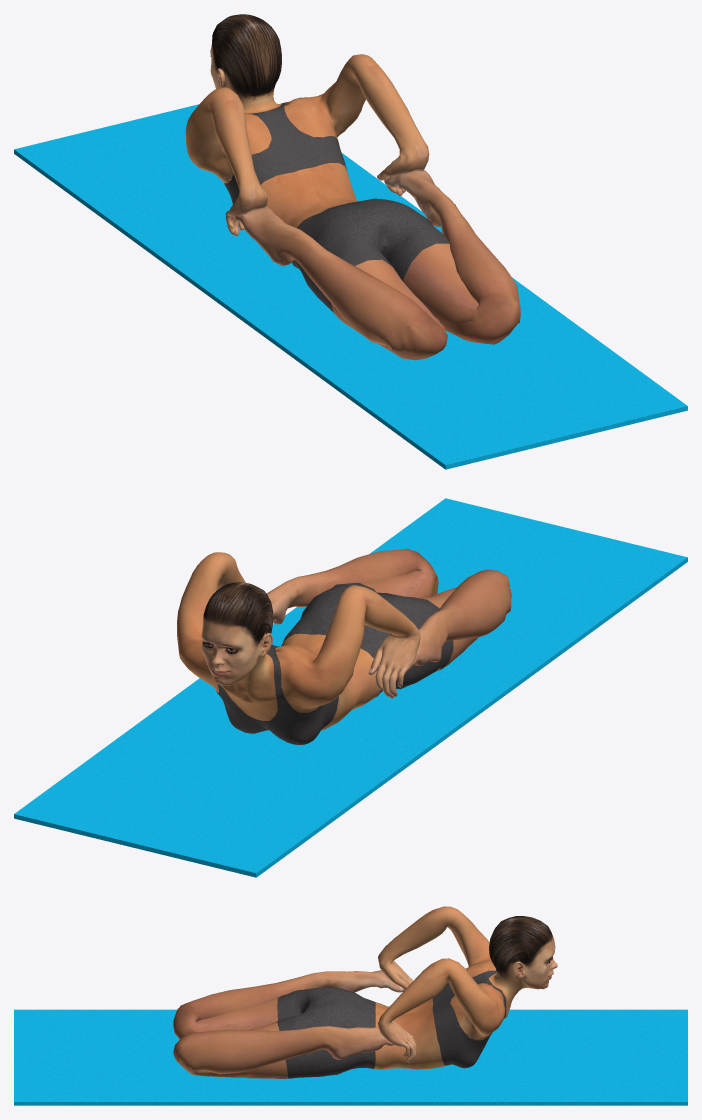
File: bhekasana.glb
3 views of the same model, one above another, from view 1: azimuth 30°, elevation 25°; view 2: azimuth 150°, elevation 25°; view 3: azimuth 270°, elevation 25° (orthographic). The views are drawn at different scales.
Parts seen in each view (by area): view 1: Mat-one-piece_jpg-material, Lily_Texture01_06_2016_jpg-material; view 2: Mat-one-piece_jpg-material, Lily_Texture01_06_2016_jpg-material; view 3: Mat-one-piece_jpg-material, Lily_Texture01_06_2016_jpg-material.
Part boxes in pixels (x1,y1,x2,y2): Mat-one-piece_jpg-material: (14,104,687,469); Lily_Texture01_06_2016_jpg-material: (185,14,520,360); Mat-one-piece_jpg-material: (14,498,687,877); Lily_Texture01_06_2016_jpg-material: (177,548,511,744); Mat-one-piece_jpg-material: (14,1009,687,1105); Lily_Texture01_06_2016_jpg-material: (173,906,557,1078).
Bounding box in the file's own units: 2 × 1.44 × 6.17.
Materials: 3 (2 with a texture image).
